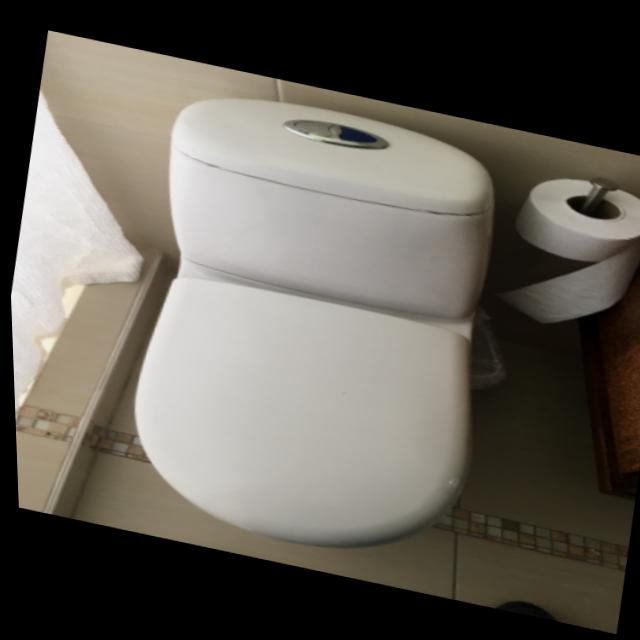toilet: (98, 72, 524, 575)
